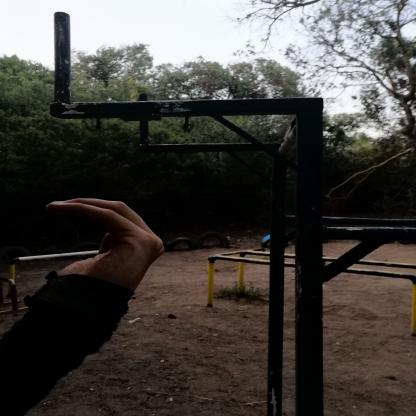HAA: (25, 188, 175, 316)
